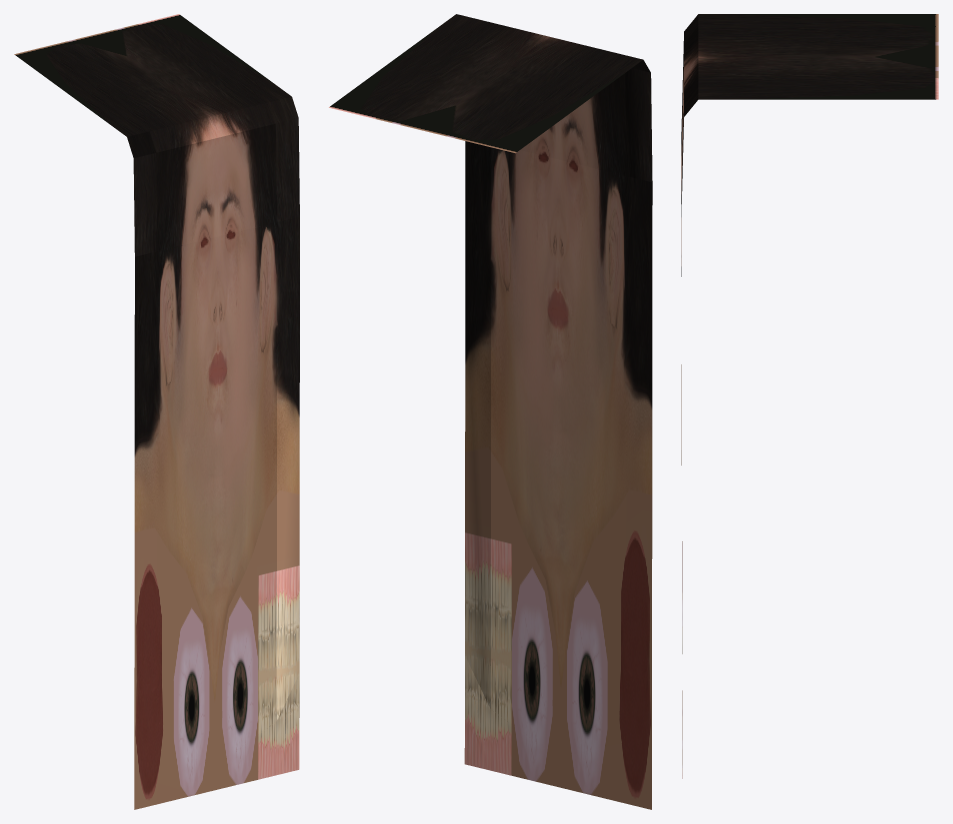
Rendered from pubu3.FBX.
3 views of the same model, side by side, from view 1: azimuth 30°, elevation 25°; view 2: azimuth 150°, elevation 25°; view 3: azimuth 270°, elevation 25° (orthographic). The views are drawn at different scales.
Visible parts, largest first — view 1: Plane002; view 2: Plane002; view 3: Plane002.
Part boxes in pixels (x1,y1,x2,y2): Plane002: [14, 14, 299, 809]; Plane002: [329, 14, 652, 809]; Plane002: [681, 14, 938, 778].
Bounding box in the file's own units: 108 × 419 × 137.
1 material, 1 textured.
